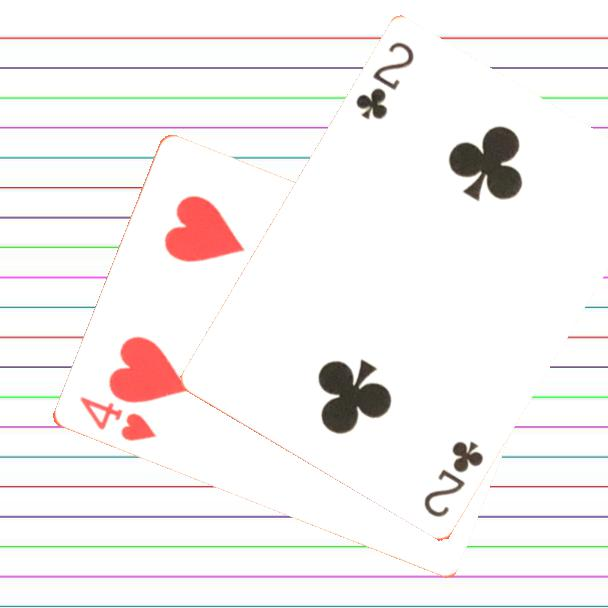c02: (352, 39, 418, 124), (420, 438, 487, 521)
h04: (75, 393, 159, 445)
